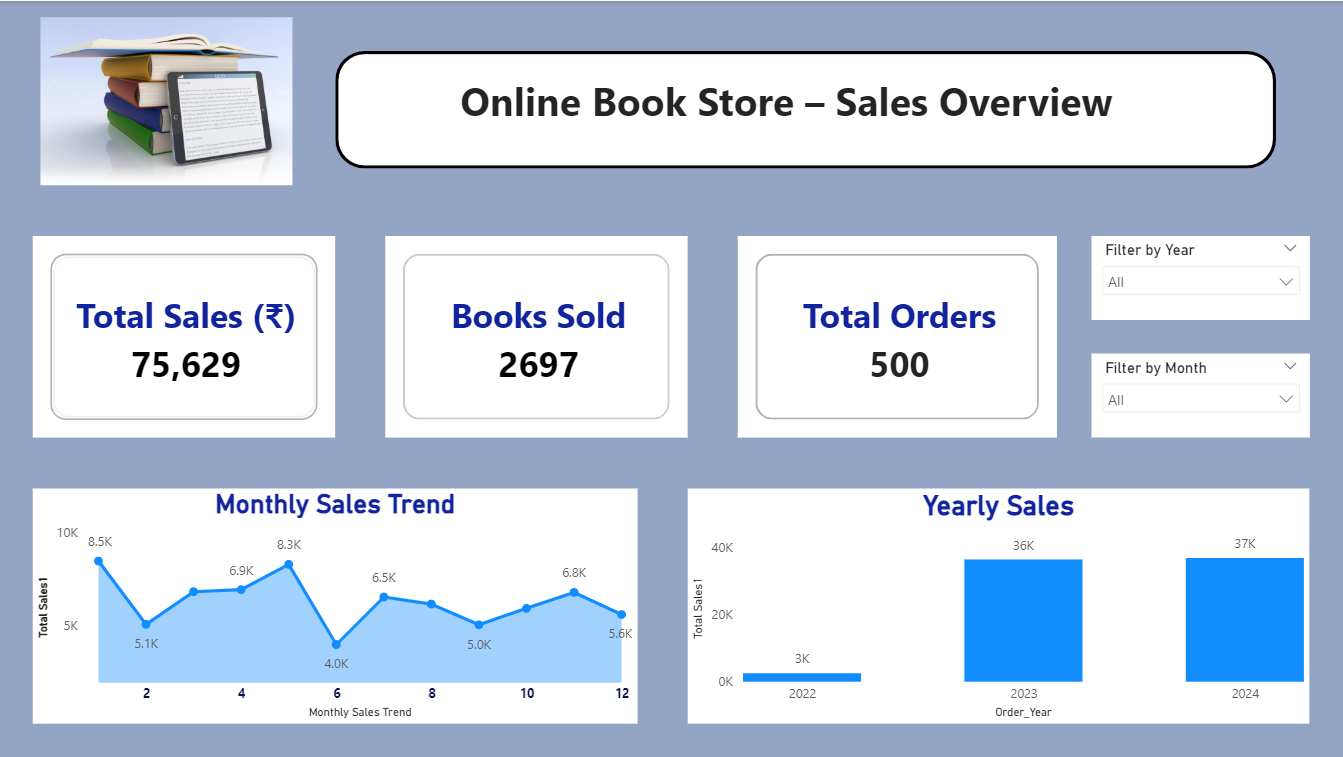

The page's visual inventory and layout, read from the dashboard file:
{"tool":"powerbi","page":{"name":"Sales Overview","canvas":[1280,720],"ordinal":0},"visuals":[{"type":"shape","box":[320,48,896,112],"z":0},{"type":"cardVisual","fields":{"Data":["online_bookstore orders.Total Sales1"]},"box":[32,224,288,192],"z":1000},{"type":"cardVisual","fields":{"Data":["online_bookstore orders.Total Orders"]},"box":[704,224,304,192],"z":2000},{"type":"cardVisual","fields":{"Data":["online_bookstore orders.Total Quantity"]},"box":[368,224,288,192],"z":3000},{"type":"areaChart","title":" Monthly Sales Trend","fields":{"Category":["online_bookstore orders.Order_Month"],"Y":["online_bookstore orders.Total Sales1"]},"box":[32,464,576,224],"z":4000},{"type":"columnChart","title":"Yearly Sales","fields":{"Category":["online_bookstore orders.Order_Year"],"Y":["online_bookstore orders.Total Sales1"]},"box":[656,464,592,224],"z":5000},{"type":"textbox","box":[336,64,752,64],"z":6000},{"type":"slicer","fields":{"Values":["online_bookstore orders.Order_Year"]},"box":[1040,224,208,80],"z":7000},{"type":"slicer","fields":{"Values":["online_bookstore orders.Order_Month"]},"box":[1040,336,208,80],"z":8000},{"type":"image","box":[16,16,288,160],"z":9000}]}

Visuals, with their boxes in screenshot pixels (x1, y1, x2, y2), scaled from the page's 1280x720 canvas onto the 1343x757 screenshot:
shape: detection(336, 50, 1276, 168)
cardVisual - online_bookstore orders.Total Sales1: detection(34, 236, 336, 437)
cardVisual - online_bookstore orders.Total Orders: detection(739, 236, 1058, 437)
cardVisual - online_bookstore orders.Total Quantity: detection(386, 236, 688, 437)
" Monthly Sales Trend" areaChart: detection(34, 488, 638, 723)
"Yearly Sales" columnChart: detection(688, 488, 1309, 723)
textbox: detection(353, 67, 1142, 135)
slicer - online_bookstore orders.Order_Year: detection(1091, 236, 1309, 320)
slicer - online_bookstore orders.Order_Month: detection(1091, 353, 1309, 437)
image: detection(17, 17, 319, 185)
